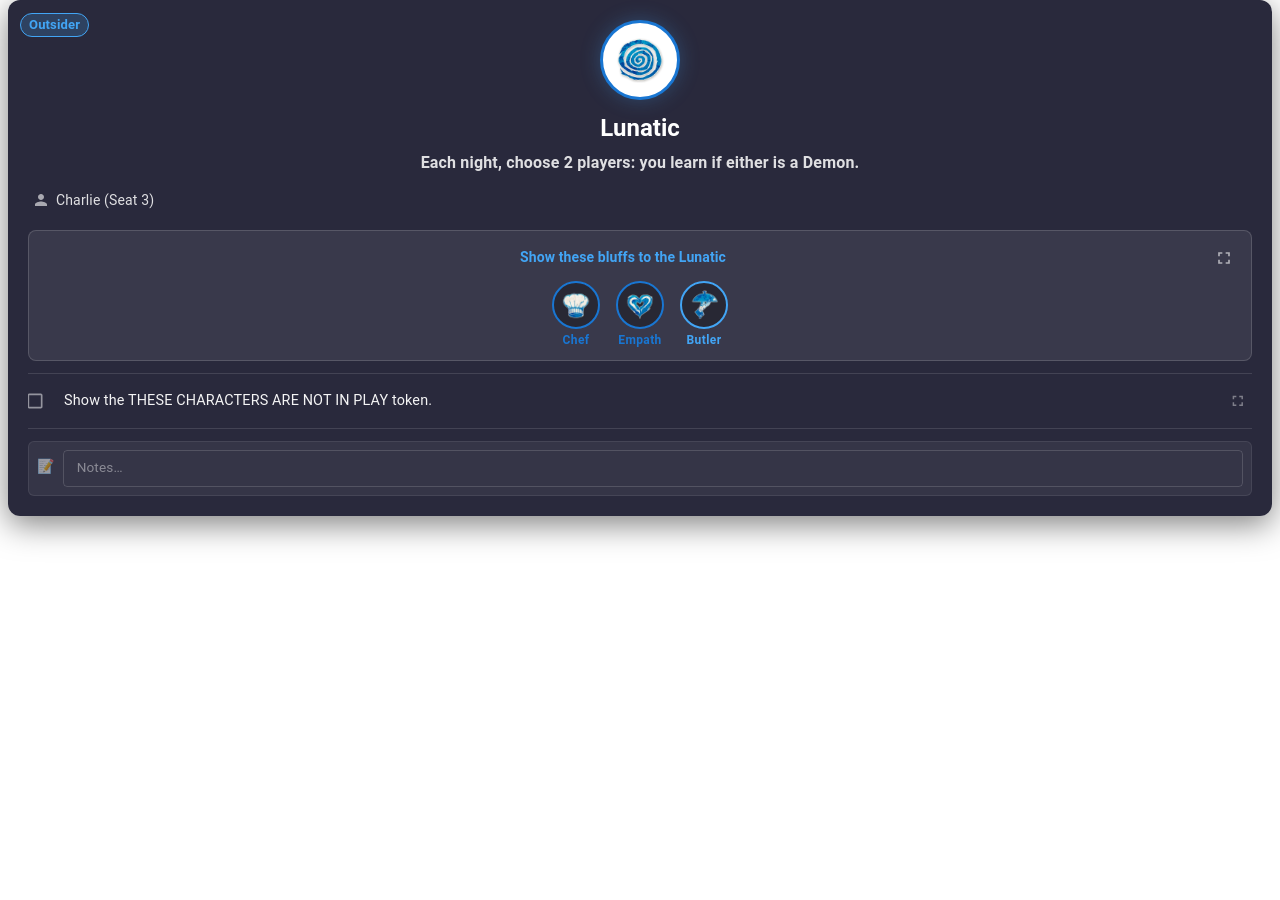
Test: NightFlashcard › Lunatic bluffs › shows Lunatic bluffs with the not-in-play token instruction
Click the button with test id "action-fullscreen-0" at (1238, 401), box 1224,387 -> 1252,415
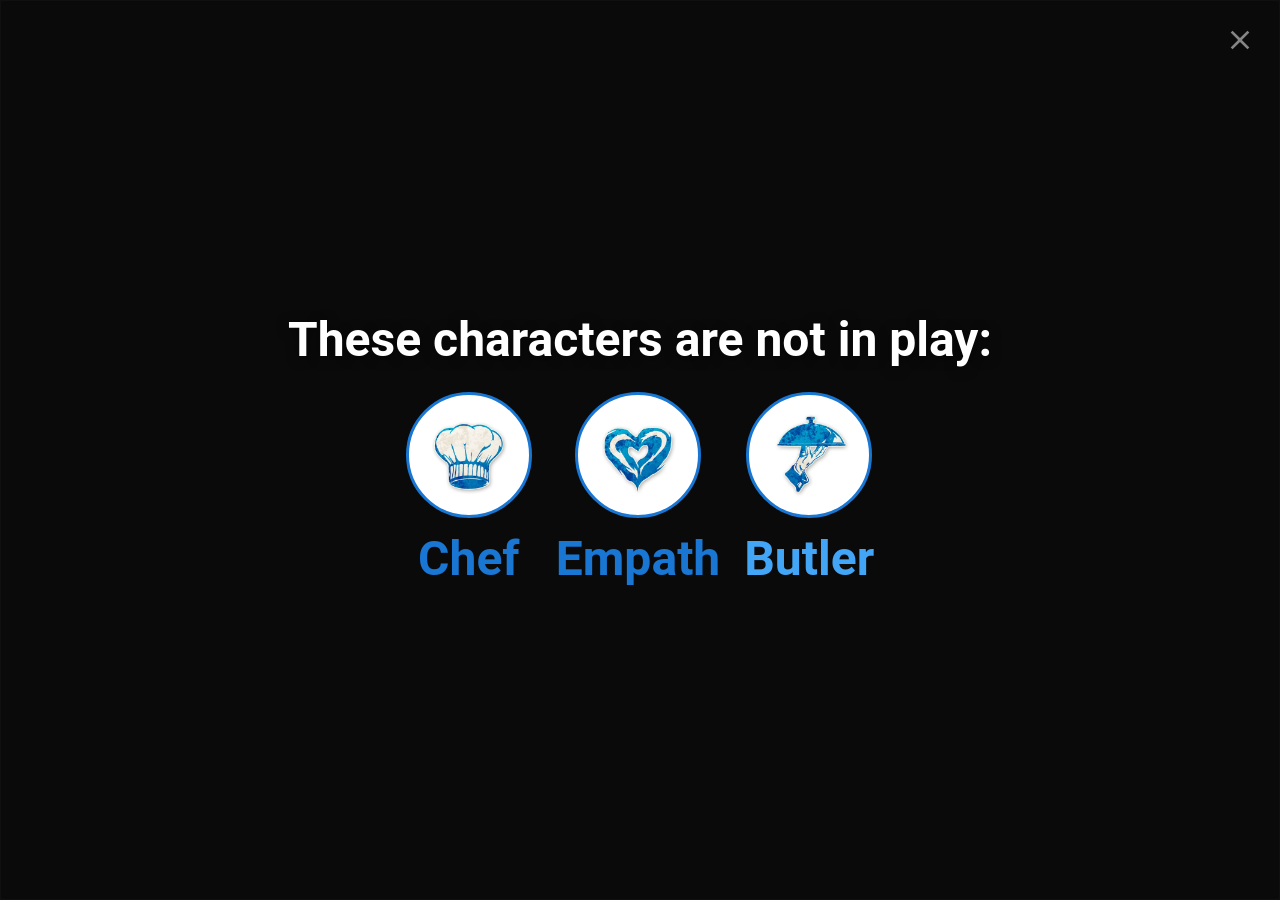
Now the element with test id "player-show-token" is shown, box 264,312 -> 1016,588
Now the element with test id "token-character-list-chef" is shown, box 406,392 -> 532,588
Now the element with test id "token-character-list-empath" is shown, box 556,392 -> 720,588
